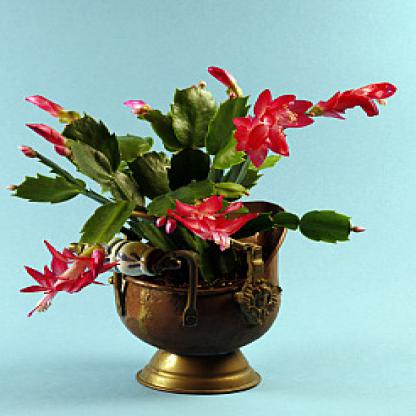Aglonema: (81, 61, 404, 327)
